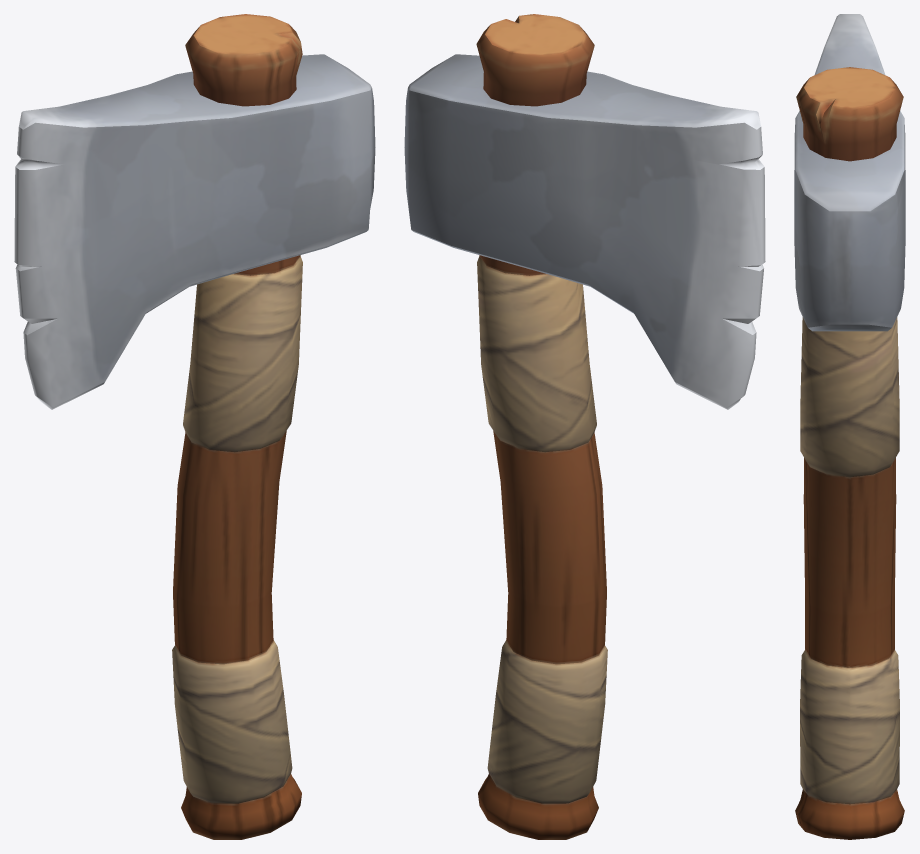
Rendered from Axe1.fbx.
3 renders of one model, left to right at view 1: azimuth 30°, elevation 25°; view 2: azimuth 150°, elevation 25°; view 3: azimuth 270°, elevation 25°, orthographic. The views are drawn at different scales.
Visible parts, largest first — view 1: Axe; view 2: Axe; view 3: Axe.
Part boxes in pixels (<box>): Axe: <box>14,14,375,839</box>; Axe: <box>404,14,765,839</box>; Axe: <box>794,14,905,839</box>.
Size of the model in its own units: 95.37 by 206 by 27.9.
Materials: 1 (1 with a texture image).
